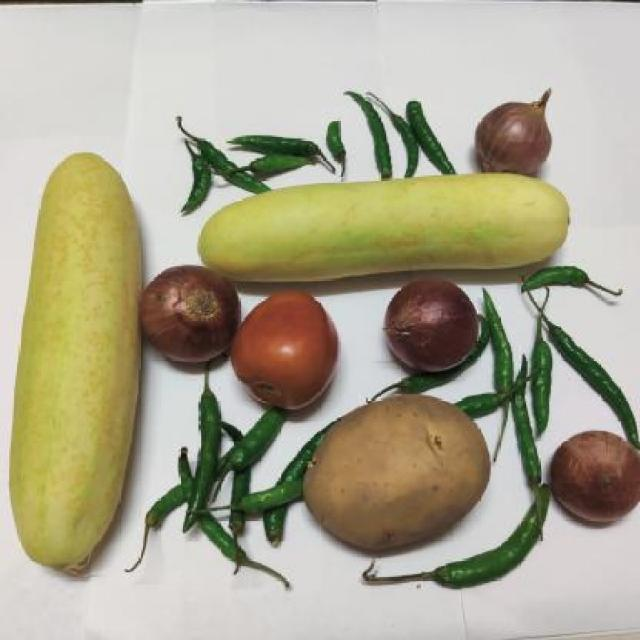Green Chili: (146, 397, 317, 586), (487, 288, 640, 434), (150, 110, 344, 204), (344, 70, 466, 184)
Onion: (469, 69, 571, 183), (380, 272, 480, 377), (132, 268, 240, 358), (551, 426, 640, 529)
Potato: (308, 394, 477, 558)
Tomato: (231, 287, 335, 418)
cucumber: (0, 148, 145, 586), (189, 171, 582, 286)
